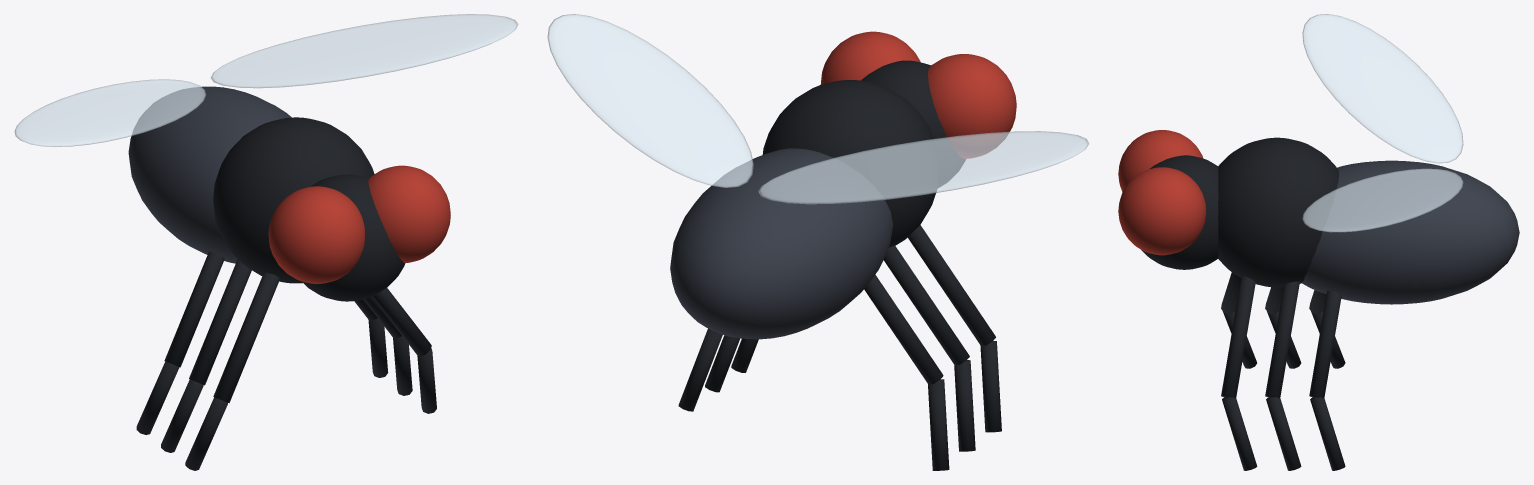
Rendered from mosca.glb.
The picture shows the model from 3 angles, left to right: view 1: azimuth 30°, elevation 25°; view 2: azimuth 150°, elevation 25°; view 3: azimuth 270°, elevation 25°; orthographic projection. The views are drawn at different scales.
Visible parts, largest first — view 1: Sphere, Sphere.001, ala_i, ala_d, Sphere.003, Sphere.004, Sphere.002, Cylinder, Cylinder.002, Cylinder.004, Cylinder.006, Cylinder.001 (+5 smaller); view 2: Sphere, ala_i, Sphere.001, ala_d, Sphere.003, Sphere.002, Sphere.004, Cylinder, Cylinder.002, Cylinder.004, Cylinder.001, Cylinder.003 (+4 smaller); view 3: Sphere, Sphere.001, ala_d, ala_i, Sphere.004, Sphere.002, Sphere.003, Cylinder.006, Cylinder.008, Cylinder.010, Cylinder.007, Cylinder.009 (+5 smaller).
Part boxes in pixels (x1,y1,x2,y2): Sphere: [128, 86, 291, 263]; Sphere.001: [213, 117, 374, 283]; ala_i: [210, 14, 518, 88]; ala_d: [14, 79, 206, 146]; Sphere.003: [268, 186, 364, 283]; Sphere.004: [368, 165, 450, 263]; Sphere.002: [302, 174, 405, 301]; Cylinder: [213, 273, 279, 403]; Cylinder.002: [189, 259, 251, 385]; Cylinder.004: [164, 251, 224, 367]; Cylinder.006: [372, 288, 431, 356]; Cylinder.001: [185, 397, 227, 470]; Sphere: [670, 148, 892, 339]; ala_i: [547, 14, 753, 187]; Sphere.001: [762, 80, 939, 247]; ala_d: [758, 131, 1089, 204]; Sphere.003: [928, 54, 1016, 158]; Sphere.002: [861, 60, 965, 188]; Sphere.004: [820, 31, 920, 84]; Cylinder: [908, 225, 995, 346]; Cylinder.002: [884, 245, 969, 366]; Cylinder.004: [864, 274, 943, 385]; Cylinder.001: [980, 340, 1001, 432]; Cylinder.003: [954, 360, 975, 451]; Sphere: [1302, 160, 1519, 304]; Sphere.001: [1218, 137, 1338, 287]; ala_d: [1302, 14, 1463, 163]; ala_i: [1302, 168, 1463, 232]; Sphere.004: [1118, 167, 1205, 255]; Sphere.002: [1141, 155, 1218, 269]; Sphere.003: [1118, 130, 1203, 192]; Cylinder.006: [1221, 275, 1255, 398]; Cylinder.008: [1265, 281, 1299, 398]; Cylinder.010: [1309, 290, 1341, 397]; Cylinder.007: [1222, 397, 1257, 470]; Cylinder.009: [1266, 397, 1301, 470].
Bounding box in the file's own units: 1.17 × 0.7429 × 0.91.
